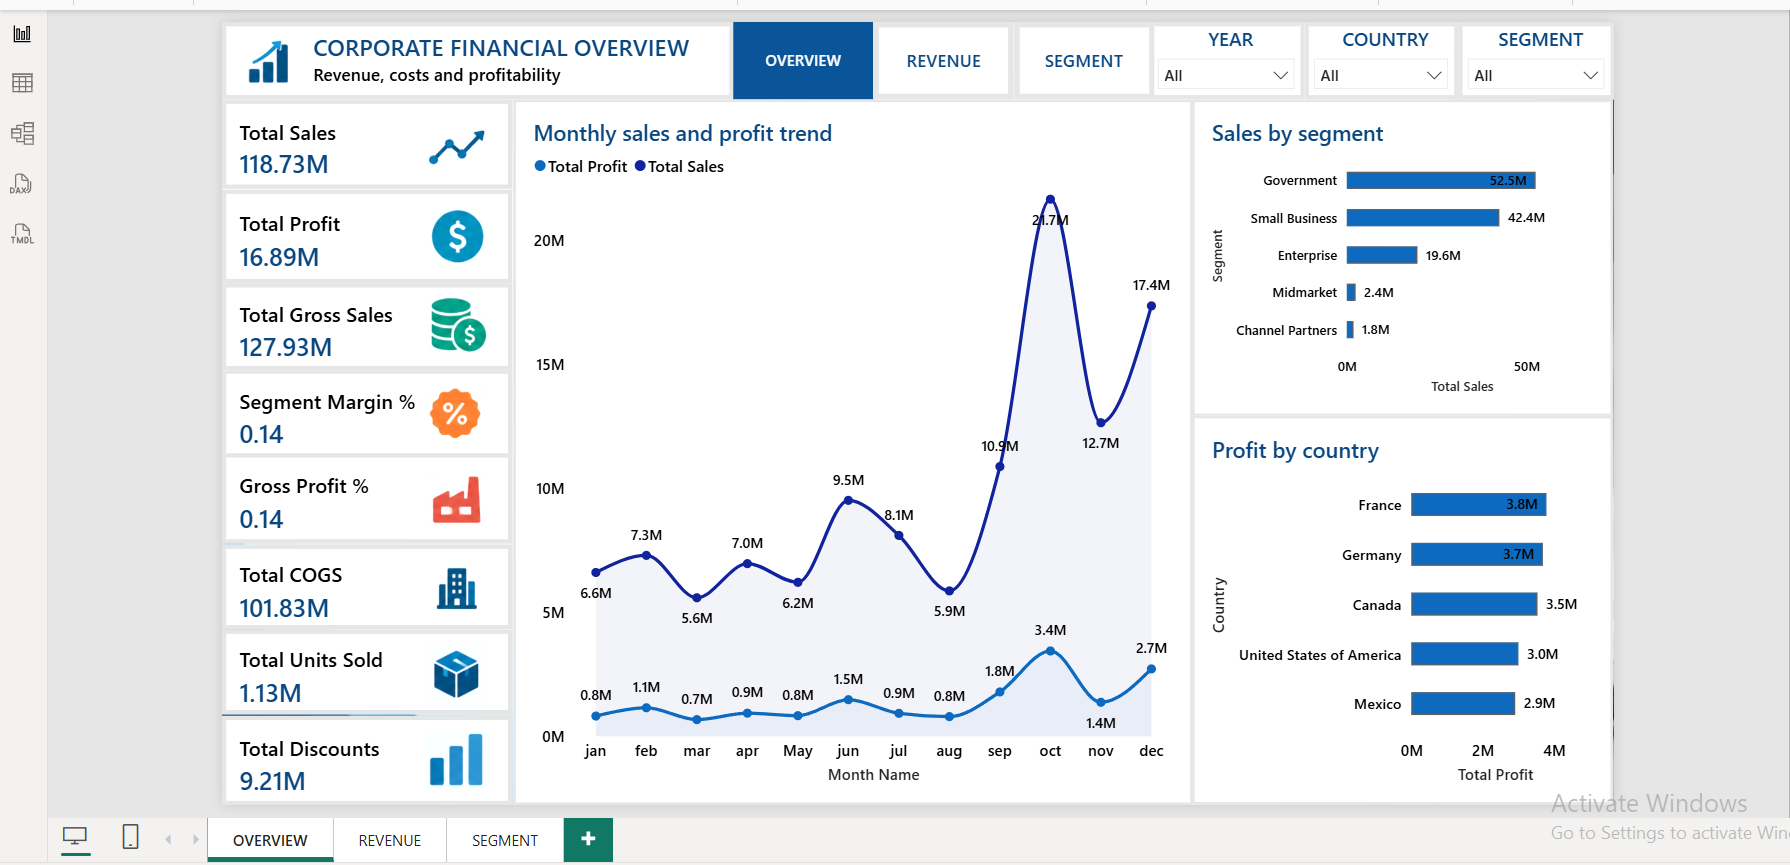

What the dashboard file says about the page in this screenshot:
{"tool":"powerbi","page":{"name":"OVERVIEW","canvas":[1280,720],"ordinal":0},"visuals":[{"type":"cardVisual","fields":{"Data":["financial_sample_cleaned.Total Sales"]},"box":[0,71.2,267.5,82.5],"z":0},{"type":"cardVisual","fields":{"Data":["financial_sample_cleaned.Total Profit"]},"box":[0,153.8,267.5,86.2],"z":1000},{"type":"cardVisual","fields":{"Data":["financial_sample_cleaned.Segment Margin %"]},"box":[0,320,267.5,81.2],"z":2000},{"type":"cardVisual","fields":{"Data":["financial_sample_cleaned.Gross Profit %"]},"box":[0,396.2,267.5,83.8],"z":3000},{"type":"cardVisual","fields":{"Data":["financial_sample_cleaned.Total Gross Sales"]},"box":[0,240,267.5,80],"z":4000},{"type":"cardVisual","fields":{"Data":["financial_sample_cleaned.Total COGS"]},"box":[0,480,267.5,78.8],"z":5000},{"type":"cardVisual","fields":{"Data":["financial_sample_cleaned.Total Units Sold"]},"box":[0,558.8,267.5,78.8],"z":6000},{"type":"lineChart","title":"Monthly sales and profit trend","fields":{"Y":["financial_sample_cleaned.Total Profit","financial_sample_cleaned.Total Sales"],"Category":["financial_sample_cleaned.Month Name"]},"box":[267.5,71.2,625,648.8],"z":7000},{"type":"clusteredBarChart","title":"Sales by segment","fields":{"Y":["financial_sample_cleaned.Total Sales"],"Category":["financial_sample_cleaned.Segment"]},"box":[892.5,71.2,387.5,291.2],"z":8000},{"type":"clusteredBarChart","title":"Profit by country","fields":{"Y":["financial_sample_cleaned.Total Profit"],"Category":["financial_sample_cleaned.Country"]},"box":[892.5,362.5,387.5,357.5],"z":9000},{"type":"slicer","title":"YEAR","fields":{"Values":["DateTable.Year"]},"box":[851.2,0,143.8,71.2],"z":10000},{"type":"slicer","title":"COUNTRY","fields":{"Values":["financial_sample_cleaned.Discount Band"]},"box":[995,0,141.2,71.2],"z":11000},{"type":"slicer","title":"SEGMENT","fields":{"Values":["financial_sample_cleaned.Product"]},"box":[1136.2,0,143.8,71.2],"z":12000},{"type":"shape","box":[0,0,470.5,71.2],"z":13000},{"type":"textbox","box":[84.5,8.4,366.8,54.3],"z":14000},{"type":"cardVisual","fields":{"Data":["financial_sample_cleaned.Total Discounts"]},"box":[0,637.5,267.5,82.5],"z":15000},{"type":"image","box":[0,8.8,85,53.8],"z":16000},{"type":"image","box":[173.8,85,85,53.8],"z":17000},{"type":"image","box":[173.8,170,85,53.8],"z":18000},{"type":"image","box":[173.8,252.5,85,53.8],"z":19000},{"type":"image","box":[173.8,332.5,85,53.8],"z":20000},{"type":"image","box":[173.8,412.5,85,53.8],"z":21000},{"type":"image","box":[173.8,492.5,85,53.8],"z":22000},{"type":"image","box":[173.8,571.2,85,53.8],"z":23000},{"type":"image","box":[173.8,651.2,85,53.8],"z":24000},{"type":"pageNavigator","box":[470.5,0,389.7,71.2],"z":25000}]}

Visuals, with their boxes on the page's 1280x720 design canvas (x1, y1, x2, y2). These are canvas units, not pixel positions in the 1790x865 screenshot, which may show the page scaled, cropped or inside an application window:
cardVisual - financial_sample_cleaned.Total Sales: x1=0 y1=71 x2=268 y2=154
cardVisual - financial_sample_cleaned.Total Profit: x1=0 y1=154 x2=268 y2=240
cardVisual - financial_sample_cleaned.Segment Margin %: x1=0 y1=320 x2=268 y2=401
cardVisual - financial_sample_cleaned.Gross Profit %: x1=0 y1=396 x2=268 y2=480
cardVisual - financial_sample_cleaned.Total Gross Sales: x1=0 y1=240 x2=268 y2=320
cardVisual - financial_sample_cleaned.Total COGS: x1=0 y1=480 x2=268 y2=559
cardVisual - financial_sample_cleaned.Total Units Sold: x1=0 y1=559 x2=268 y2=638
"Monthly sales and profit trend" lineChart: x1=268 y1=71 x2=892 y2=720
"Sales by segment" clusteredBarChart: x1=892 y1=71 x2=1280 y2=362
"Profit by country" clusteredBarChart: x1=892 y1=362 x2=1280 y2=720
"YEAR" slicer: x1=851 y1=0 x2=995 y2=71
"COUNTRY" slicer: x1=995 y1=0 x2=1136 y2=71
"SEGMENT" slicer: x1=1136 y1=0 x2=1280 y2=71
shape: x1=0 y1=0 x2=470 y2=71
textbox: x1=84 y1=8 x2=451 y2=63
cardVisual - financial_sample_cleaned.Total Discounts: x1=0 y1=638 x2=268 y2=720
image: x1=0 y1=9 x2=85 y2=63
image: x1=174 y1=85 x2=259 y2=139
image: x1=174 y1=170 x2=259 y2=224
image: x1=174 y1=252 x2=259 y2=306
image: x1=174 y1=332 x2=259 y2=386
image: x1=174 y1=412 x2=259 y2=466
image: x1=174 y1=492 x2=259 y2=546
image: x1=174 y1=571 x2=259 y2=625
image: x1=174 y1=651 x2=259 y2=705
pageNavigator: x1=470 y1=0 x2=860 y2=71
